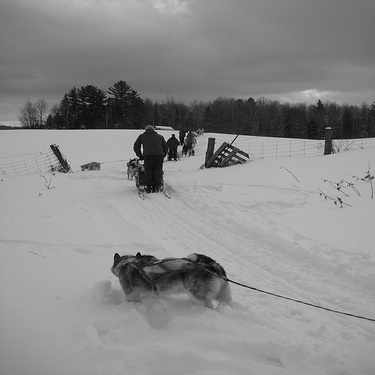dog: (97, 245, 239, 321), (124, 155, 149, 182), (72, 157, 102, 176), (110, 165, 139, 182), (168, 146, 192, 162), (193, 124, 204, 138)
